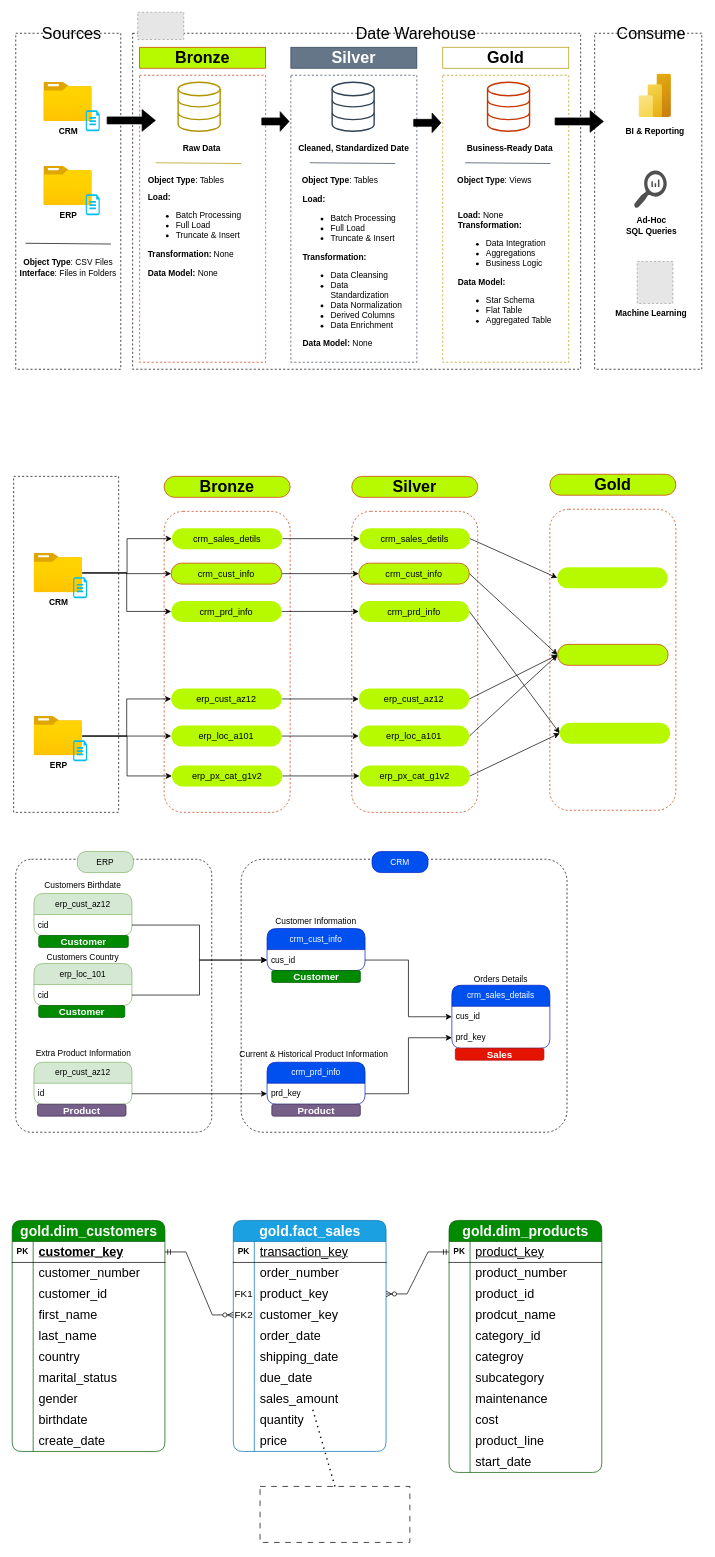
Some shapes in this 715 by 1557 pixel diagram are drawn without their labels. Grey dashed boxes stand in for pictures. The shapes that lost their labels are listed below. From the top down, each one's centre as x and y in pixels, then its label:
At point (612, 577): "fact_sales".
At point (612, 654): "dim_customers".
At point (614, 732): "dim_products".
At point (334, 1514): "Sales Calculation sales_amount = quantity * price".
